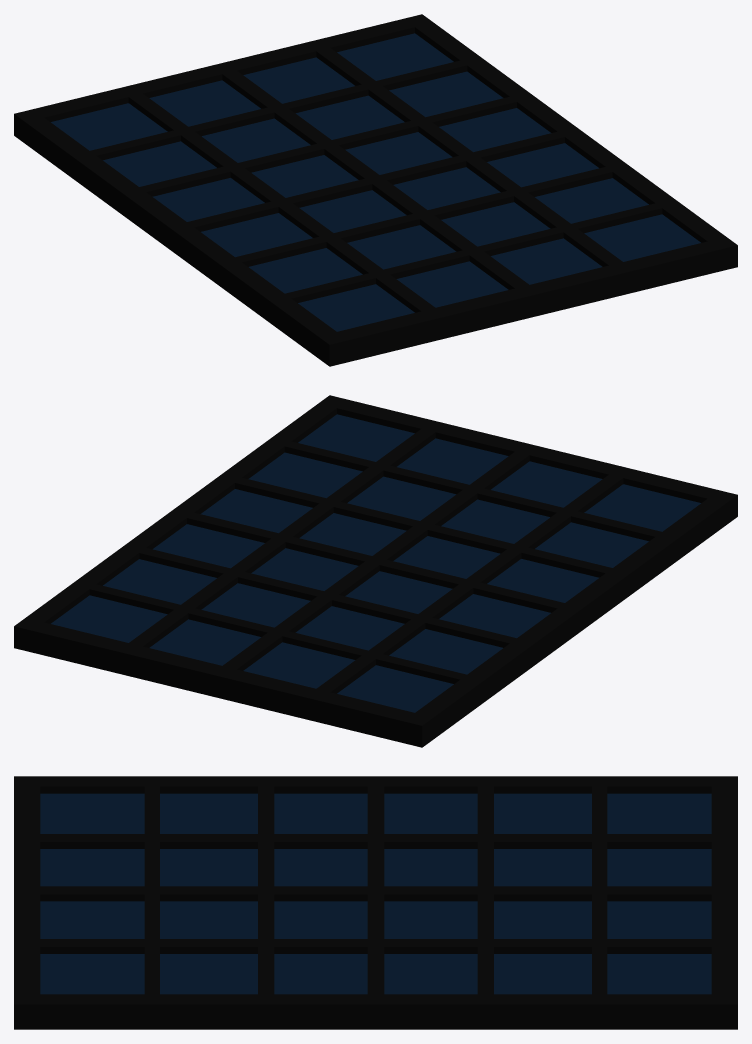
File: R solarpanel.fbx
3 renders of one model, top to bottom at view 1: azimuth 30°, elevation 25°; view 2: azimuth 150°, elevation 25°; view 3: azimuth 270°, elevation 25°, orthographic. The views are drawn at different scales.
Parts seen in each view (by area): view 1: solarpanels.001; view 2: solarpanels.001; view 3: solarpanels.001.
Boxes of the visible parts, x1,y1,x2,y2 form: solarpanels.001: (14,14,737,366); solarpanels.001: (14,395,737,747); solarpanels.001: (14,776,737,1029).
Bounding box in the file's own units: 112 × 5.73 × 150.
